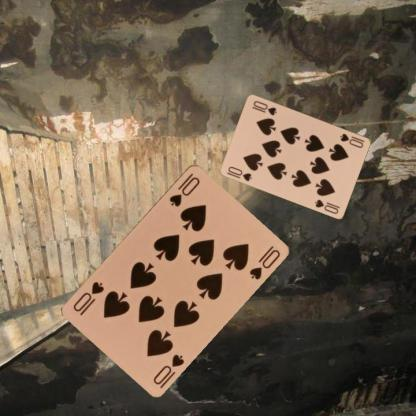10s: (166, 170, 201, 208), (150, 351, 186, 385), (226, 164, 254, 182), (338, 131, 364, 149)
